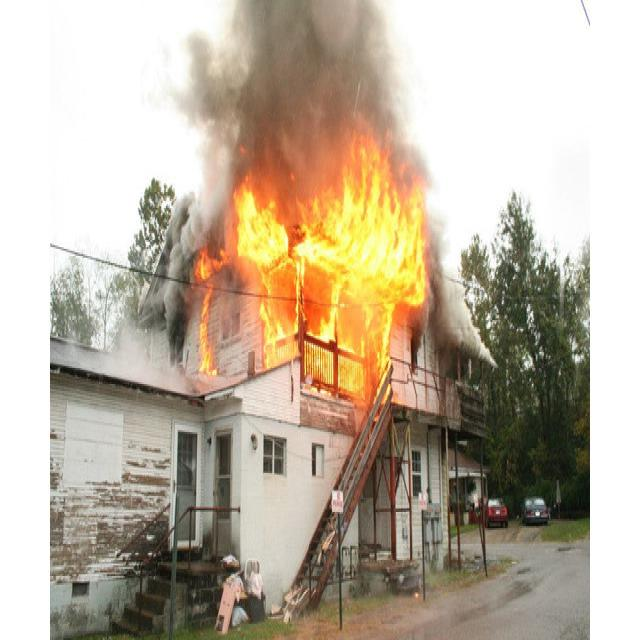Fire: (299, 187, 432, 389), (233, 191, 309, 376), (194, 246, 227, 386)
Smoke: (202, 0, 403, 194), (434, 225, 491, 369), (158, 210, 195, 364)
